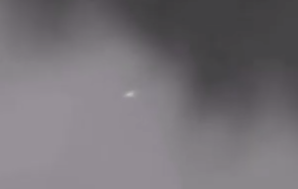Target: (127, 93, 134, 95)
